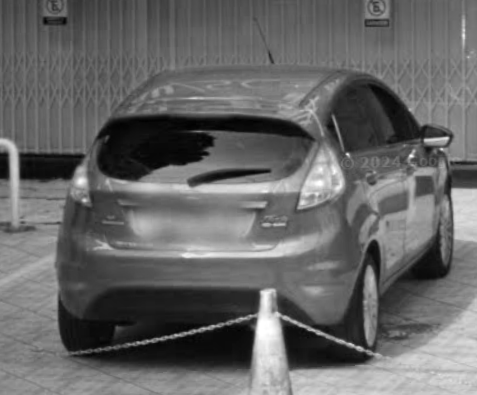car: (55, 64, 458, 357)
